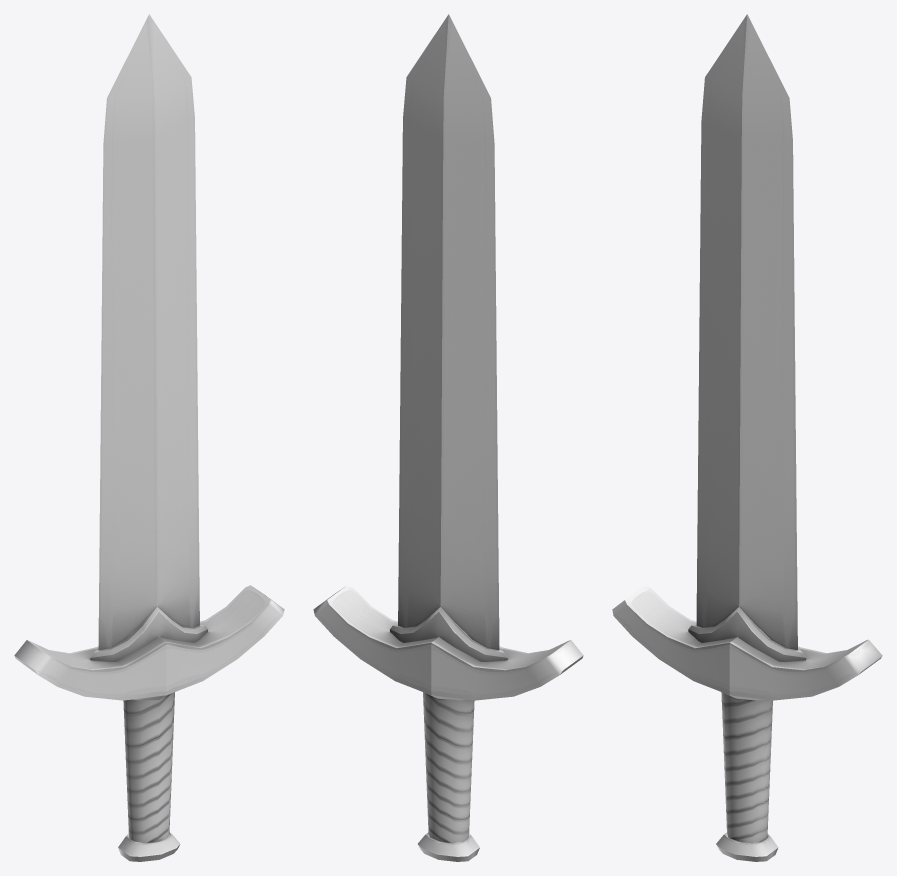
3 views of the same model, side by side, from view 1: azimuth 30°, elevation 25°; view 2: azimuth 150°, elevation 25°; view 3: azimuth 330°, elevation 25° (orthographic).
Visible parts, largest first — view 1: 006_a_broadsword; view 2: 006_a_broadsword; view 3: 006_a_broadsword.
Boxes of the visible parts, bbox=[...] form: 006_a_broadsword: bbox=[14, 14, 284, 861]; 006_a_broadsword: bbox=[313, 14, 583, 861]; 006_a_broadsword: bbox=[612, 14, 882, 861].
Size of the model in its own units: 30.95 by 99.19 by 7.5.
